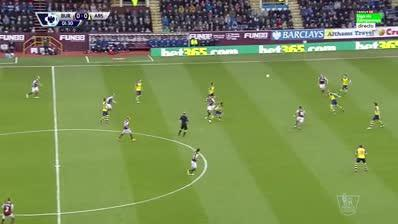futbol: (263, 72, 273, 80)
player: (367, 101, 387, 132), (353, 143, 372, 174), (117, 115, 137, 144), (186, 145, 202, 180), (26, 73, 45, 101), (0, 196, 19, 223), (326, 90, 344, 115), (293, 104, 308, 133), (315, 71, 332, 94), (133, 79, 145, 108), (339, 73, 352, 99), (205, 94, 216, 123), (100, 97, 110, 127), (215, 100, 226, 123), (107, 93, 118, 111), (205, 80, 217, 95)
referree: (177, 110, 191, 139)
